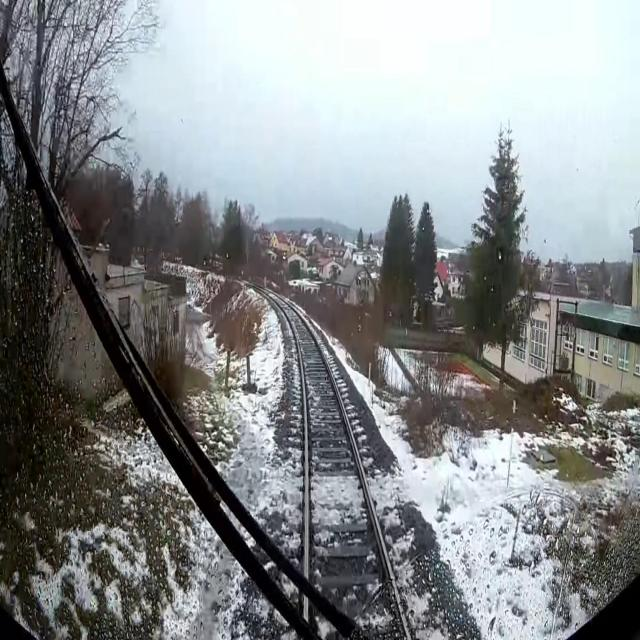rail-track: (269, 293, 406, 639)
